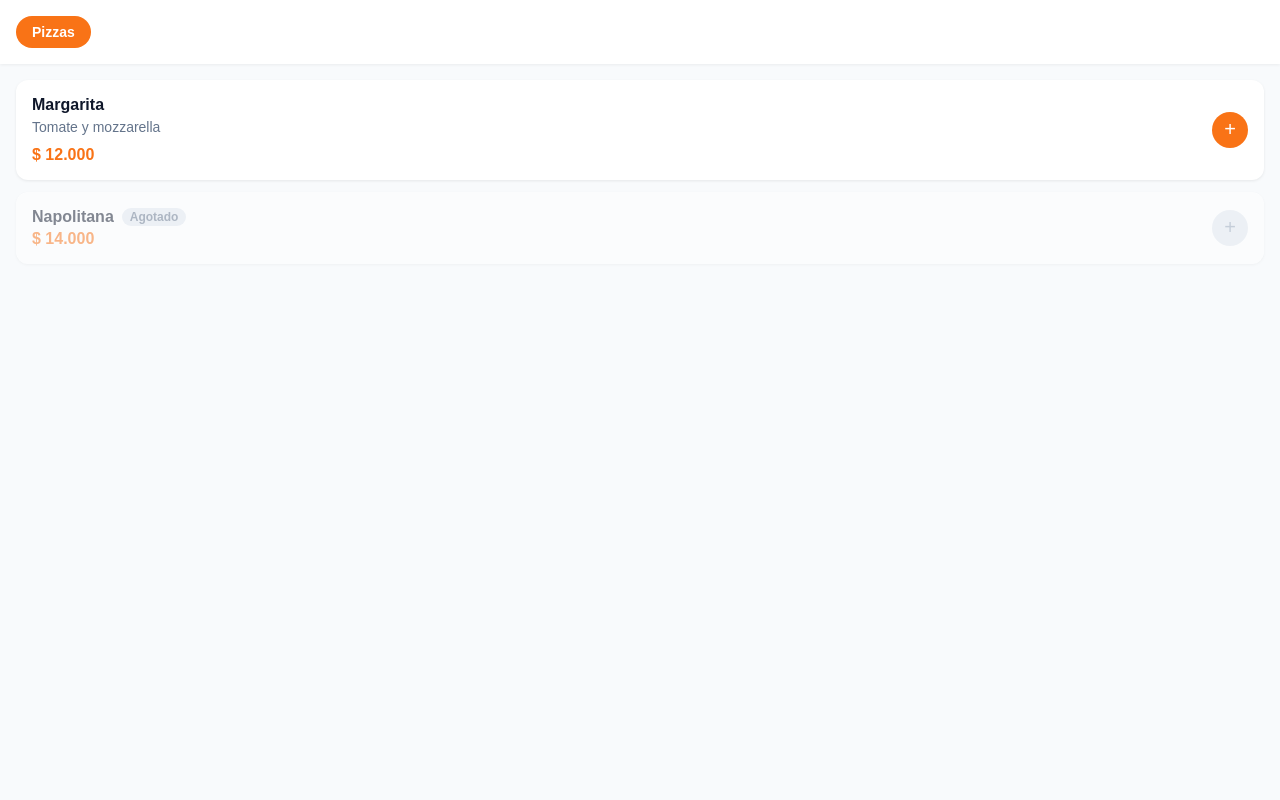
Scenario: MenuPage › Agregar al pedido adds to cart and closes the sheet
What coordinates should you click on to do the following:
click the button with aria-label "Ver detalles de Margarita"
I would click on:
 (68, 104)
Its box is [16,80,1196,180].
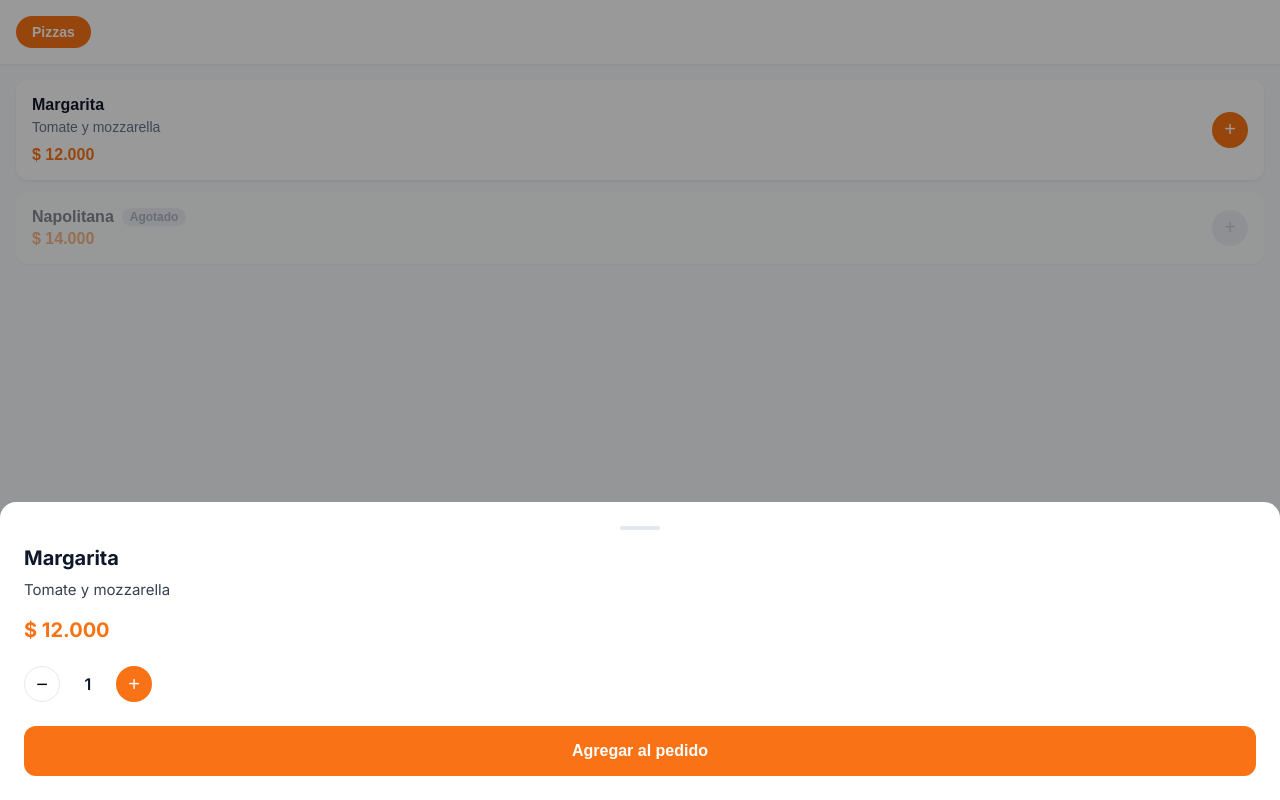
What coordinates should you click on to do the following:
click the button "Agregar al pedido"
I would click on:
 (640, 751)
Its box is [24,726,1256,776].
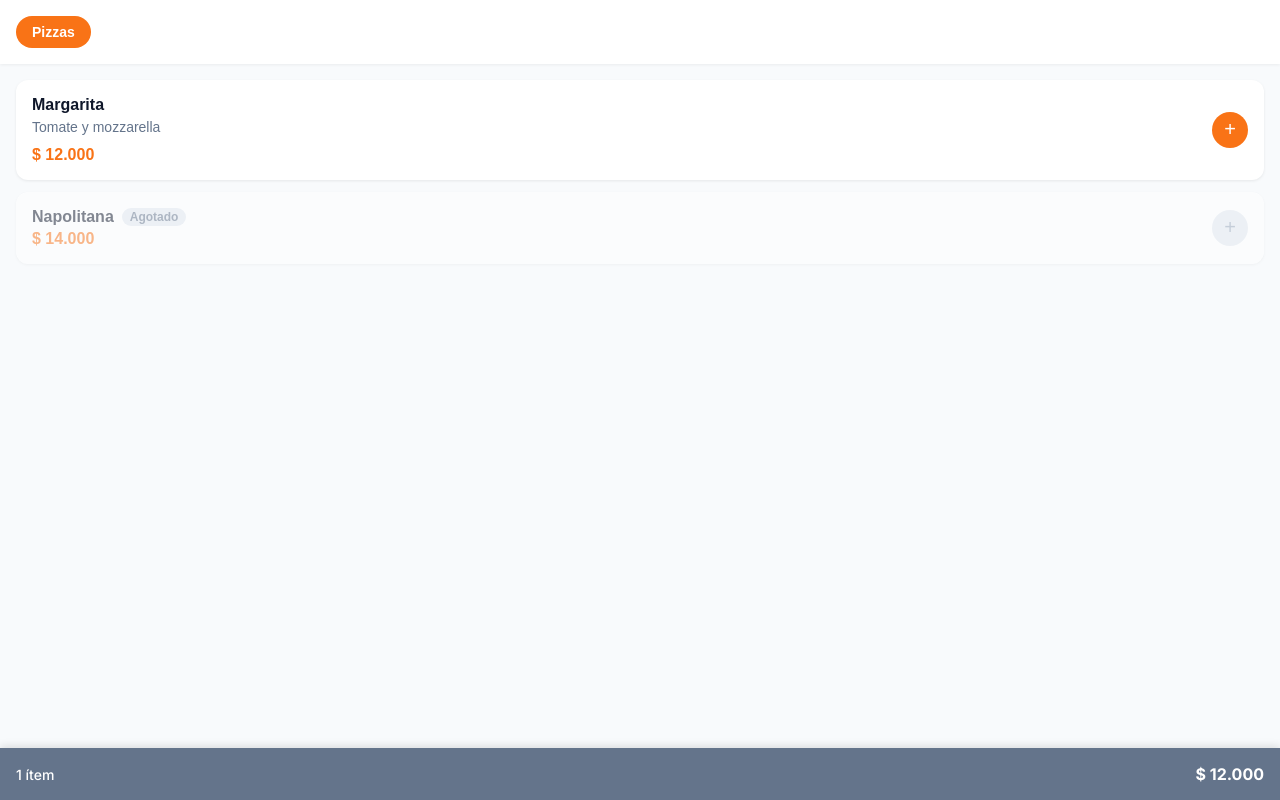
Expected: the dialog is gone
Expected: the message named "Carrito" is shown, [0,748,1279,799]
